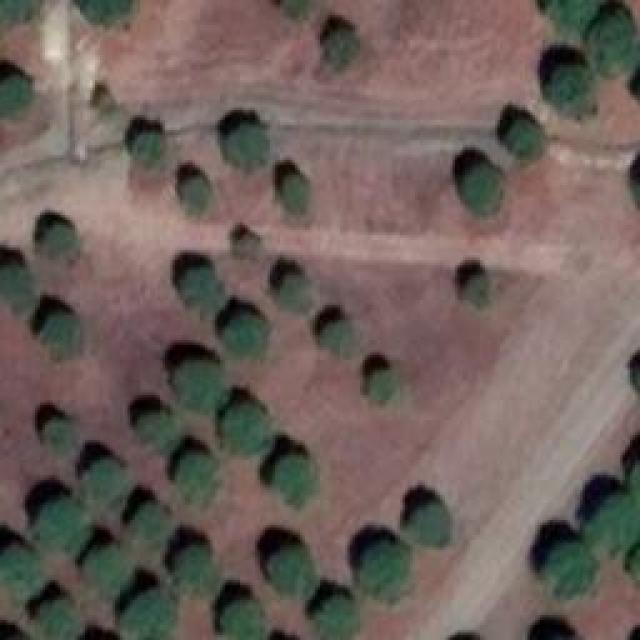Tree: (590, 10, 640, 75), (360, 540, 410, 603), (122, 587, 177, 640), (543, 543, 596, 598), (38, 500, 88, 555), (403, 500, 456, 550), (547, 65, 595, 120), (173, 360, 226, 408), (275, 455, 323, 508), (83, 550, 136, 598), (38, 315, 88, 365), (590, 490, 633, 548), (222, 403, 270, 453), (82, 458, 130, 508), (175, 453, 220, 506), (463, 163, 508, 213), (225, 313, 270, 363), (215, 597, 265, 640), (0, 545, 40, 598), (265, 545, 310, 590), (35, 218, 80, 263), (310, 597, 357, 640), (223, 125, 268, 168), (178, 268, 223, 311), (173, 543, 216, 586), (40, 597, 80, 640), (0, 265, 38, 310), (135, 410, 178, 448), (75, 0, 133, 28), (275, 275, 315, 313), (315, 320, 355, 358), (130, 505, 170, 543), (0, 75, 35, 115), (503, 118, 538, 158), (550, 0, 605, 25), (0, 0, 38, 35), (175, 175, 210, 213), (43, 417, 78, 455), (278, 175, 311, 213), (128, 130, 163, 165), (330, 28, 360, 61), (365, 370, 393, 403), (233, 232, 263, 260), (465, 275, 490, 305)
